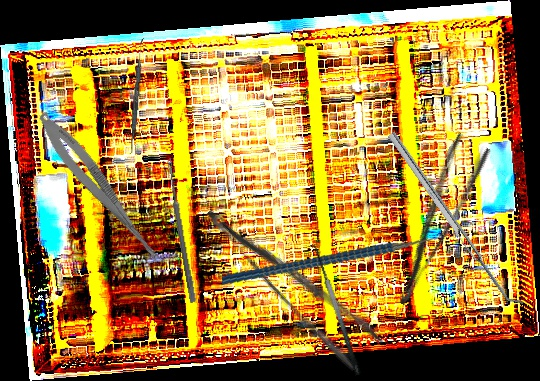Chopper: (221, 190, 451, 315)
Dressing Forceps: (202, 182, 387, 375), (371, 131, 495, 308)
Micro Scissor: (30, 106, 176, 274)
Spatula Surgical: (387, 126, 525, 313), (303, 241, 363, 380), (129, 37, 144, 155)
Surgical Spoon: (164, 158, 198, 303)
